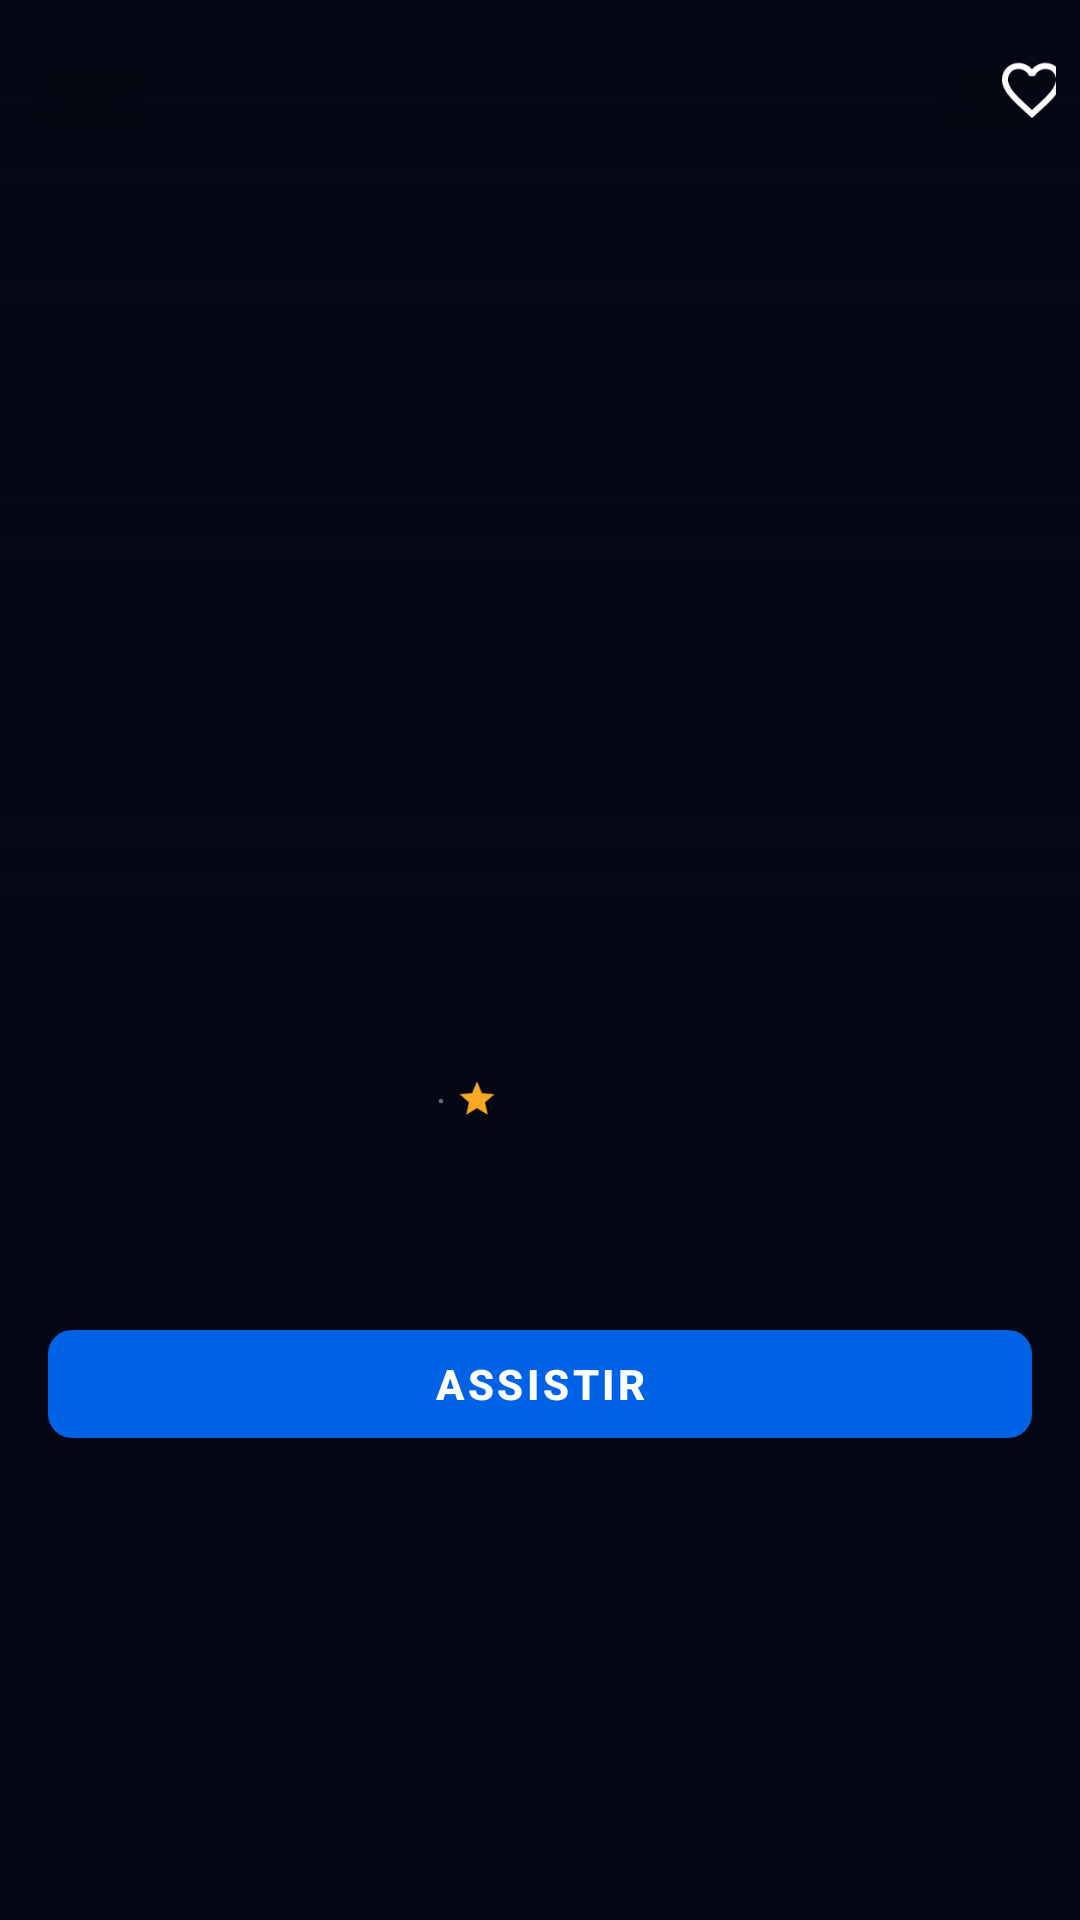

Icon click points for this 1080x1920 phone screenshot, format (x,y):
favorite: (1029,90)
star: (477,1098)
